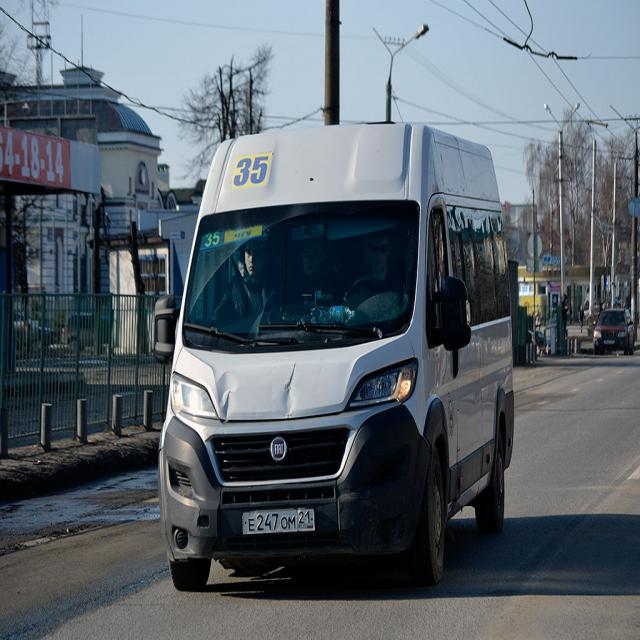number-of-bus: (232, 154, 272, 186), (204, 230, 224, 250)
